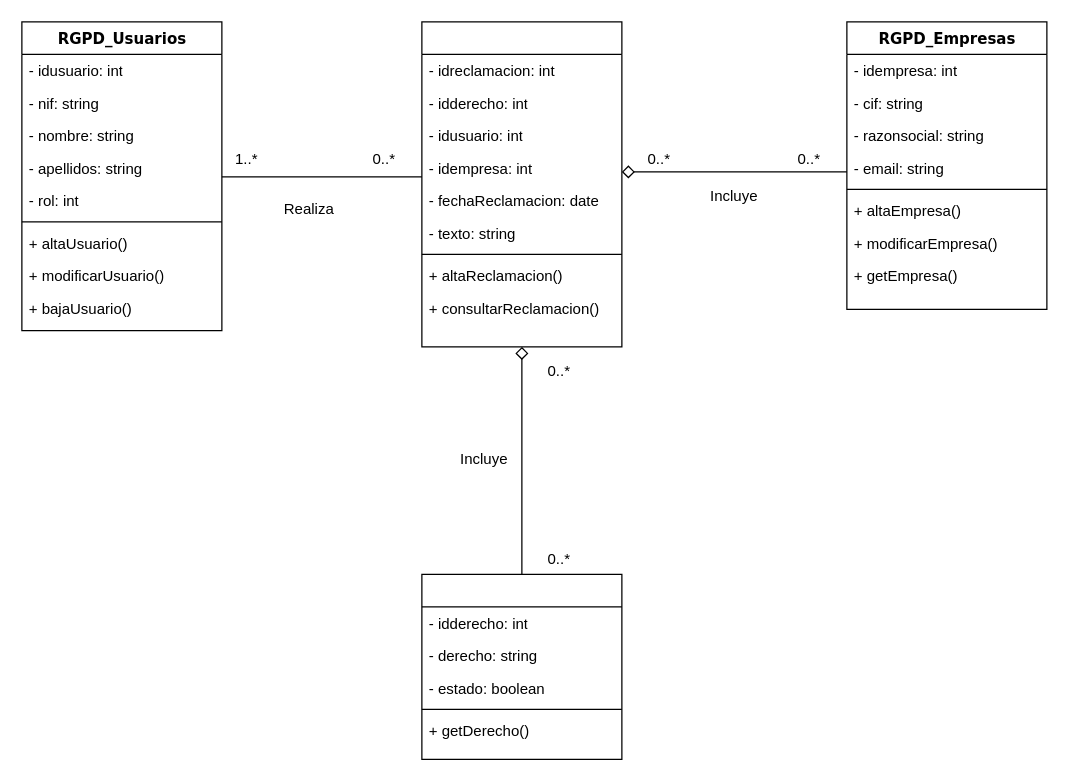
Some shapes in this 1069 by 781 pixel diagram are drawn without their labels. The shapes that lost their labels are listed below. From the top down, each one's box as (x1, y1, x2, y2) in pixels, then its label:
(421, 21, 622, 347): RGPD_Reclamaciones
(421, 573, 622, 759): RGPD_Derechos
